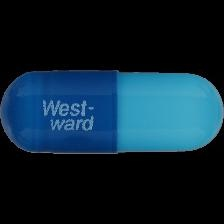0143-3018: (0, 0, 224, 224)
